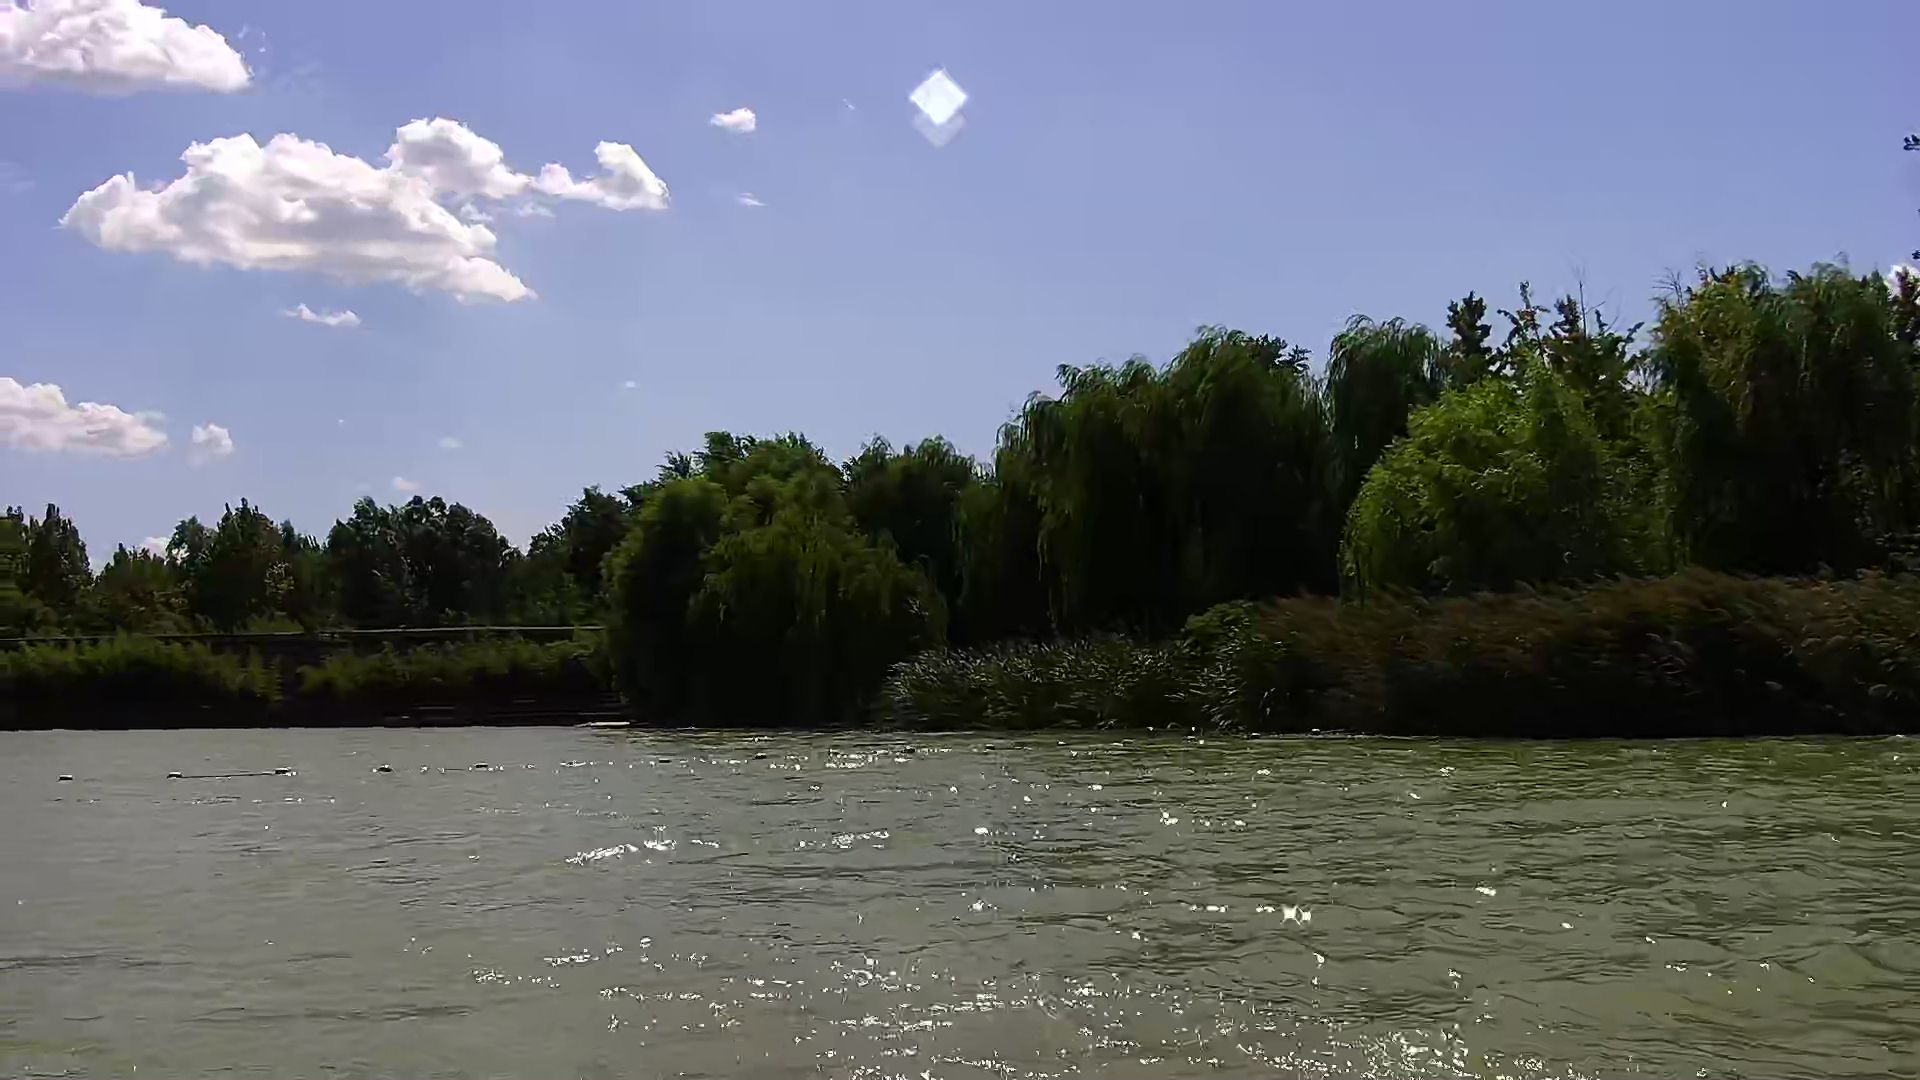ball: (51, 765, 78, 789), (369, 760, 400, 778), (268, 764, 299, 779), (164, 765, 190, 783)
